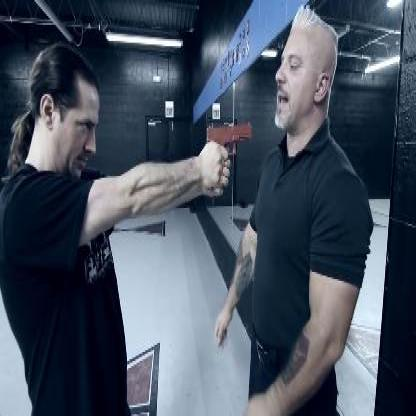pistol: (204, 120, 252, 154)
